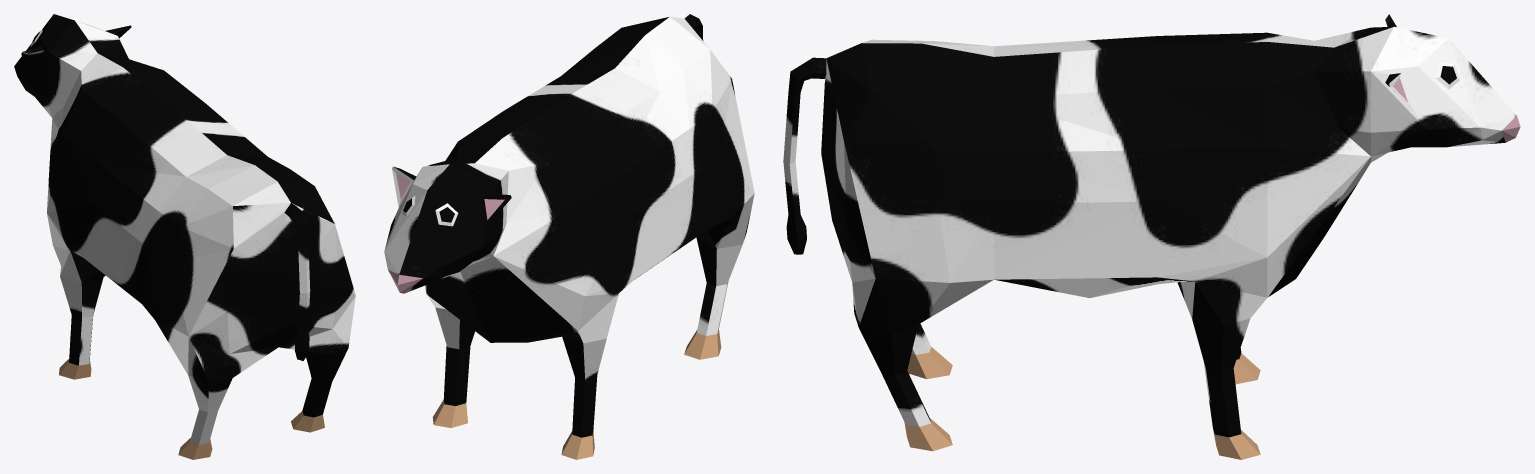
File: cow2.fbx
The picture shows the model from 3 angles, left to right: view 1: azimuth 30°, elevation 25°; view 2: azimuth 150°, elevation 25°; view 3: azimuth 270°, elevation 25°; orthographic projection. The views are drawn at different scales.
Visible parts, largest first — view 1: COW.001; view 2: COW.001; view 3: COW.001.
Part boxes in pixels (box(x1,y1,x2,y2)): COW.001: box(14, 14, 355, 459); COW.001: box(384, 14, 754, 459); COW.001: box(783, 14, 1520, 459).
Size of the model in its own units: 119 by 185 by 320.
5 materials, 1 textured.
